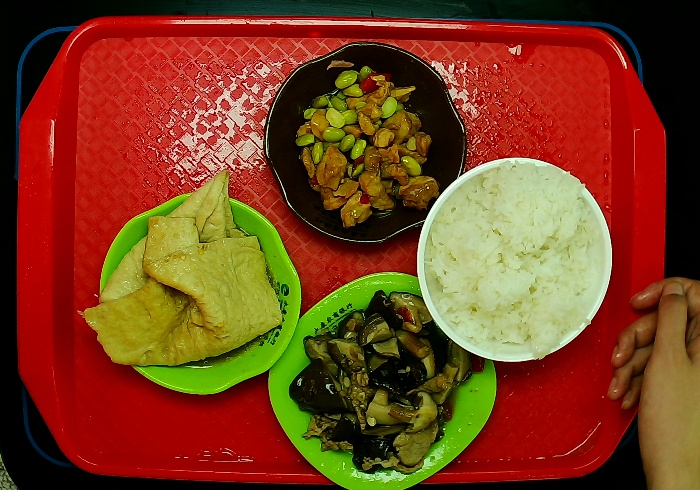YKMZ-Fan_Wan: (413, 158, 615, 367)
YKMZ-Ka_Fei_Ao_Bian_Wan: (264, 40, 469, 246)
YKMZ-Lv_Se_Ao_Bian_Wan: (93, 192, 305, 400)
YKMZ-Lv_Se_Fang_Die: (265, 271, 502, 490)
